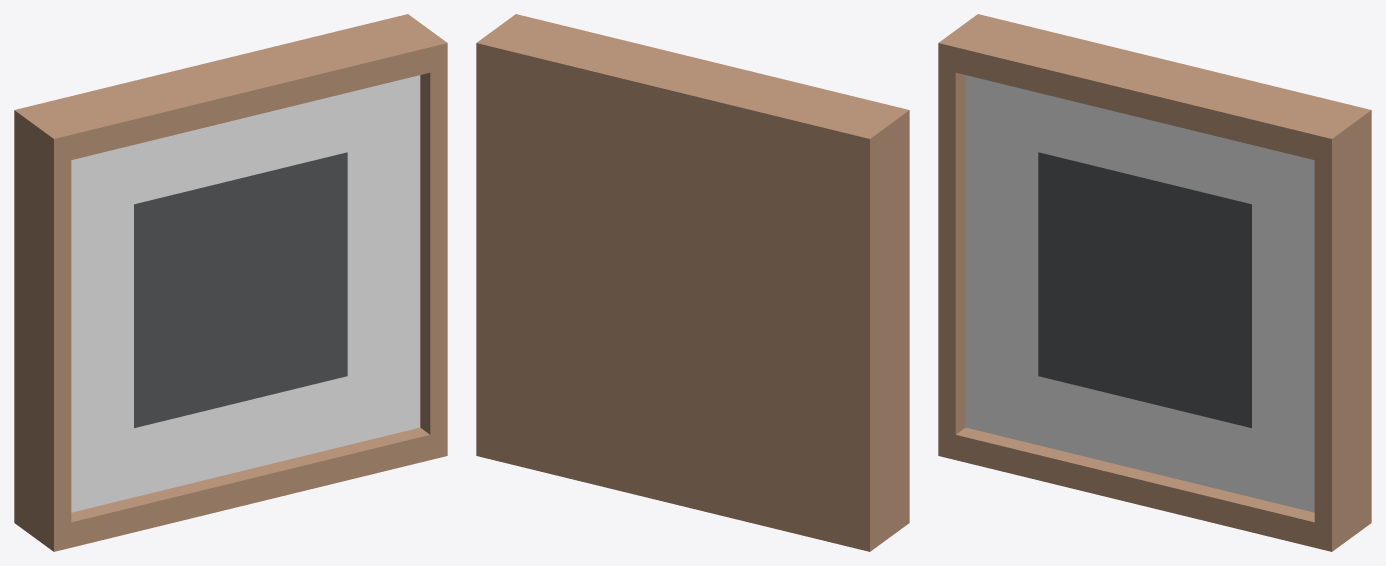
Rendered from Frame_23x23.fbx.
3 renders of one model, left to right at view 1: azimuth 30°, elevation 25°; view 2: azimuth 150°, elevation 25°; view 3: azimuth 330°, elevation 25°, orthographic.
Parts seen in each view (by area): view 1: Frame_23x23; view 2: Frame_23x23; view 3: Frame_23x23.
Part boxes in pixels (x1=…): Frame_23x23: x1=14, y1=14, x2=447, y2=551; Frame_23x23: x1=476, y1=14, x2=909, y2=551; Frame_23x23: x1=938, y1=14, x2=1371, y2=551.
Size of the model in its own units: 0.2296 by 0.2301 by 0.04.
